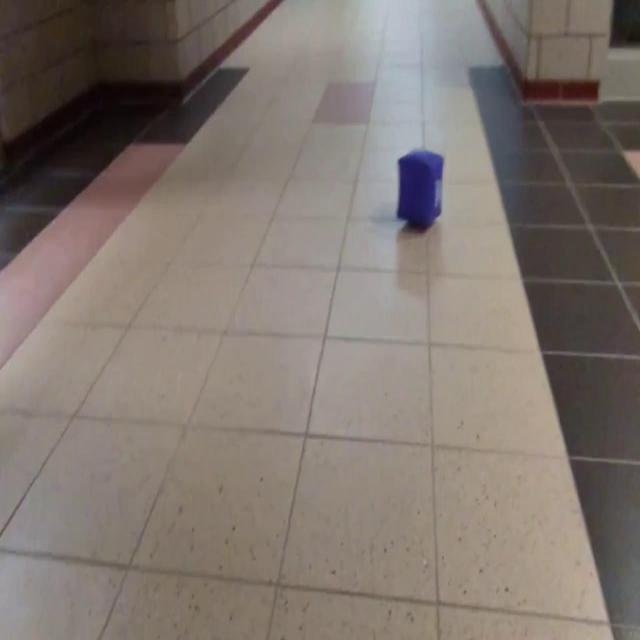frc_cube: (396, 148, 442, 230)
